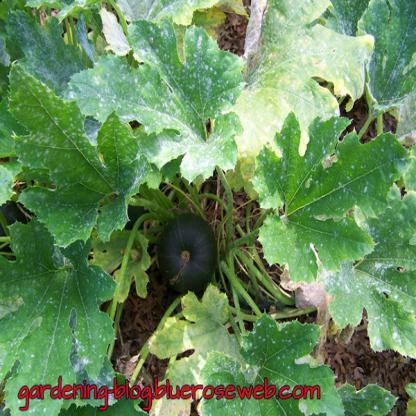Squash Powdery mildew leaf: (66, 19, 242, 184), (249, 120, 412, 274), (10, 57, 146, 240), (1, 221, 118, 415), (240, 1, 375, 158), (192, 315, 352, 415), (330, 187, 415, 352)
